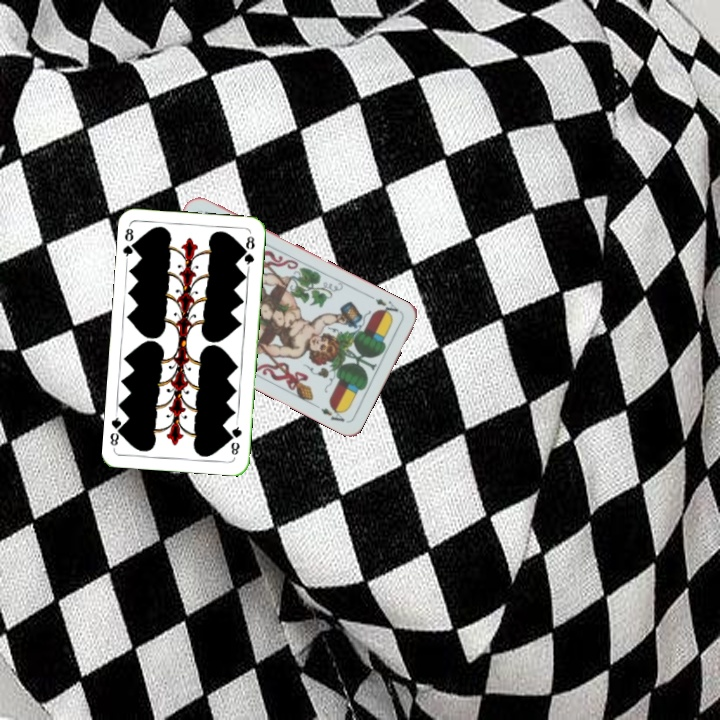EA: (366, 292, 404, 319)
G8: (119, 222, 140, 263), (227, 419, 244, 458)
